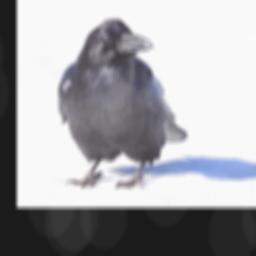Crow: (54, 13, 192, 193)
